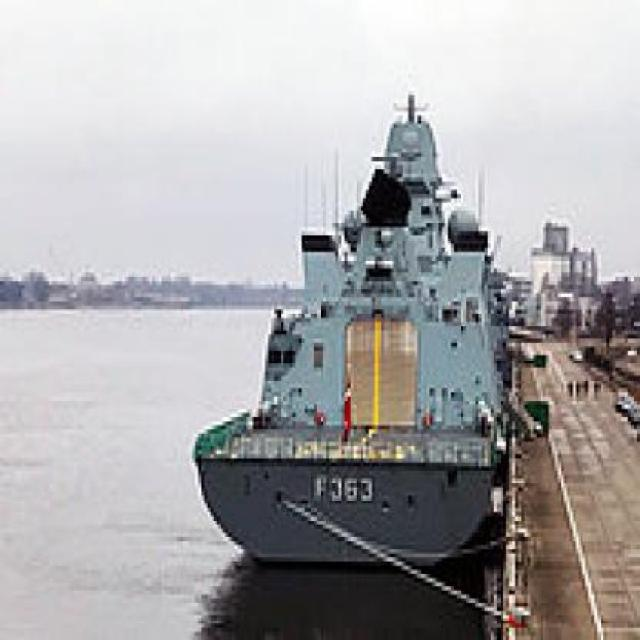warship2: (191, 71, 514, 579)
